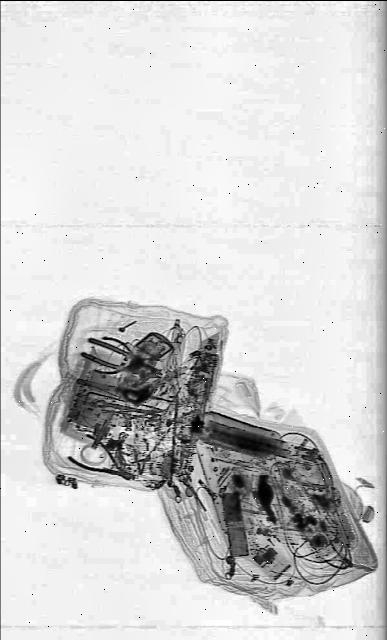Pliers: (69, 424, 137, 494), (80, 330, 166, 384), (95, 329, 157, 389)
Wrench: (97, 394, 155, 416)
